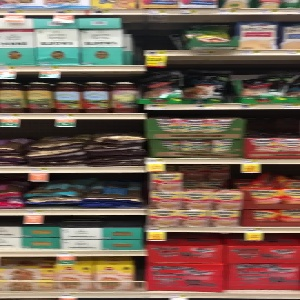void: (132, 18, 185, 56)
